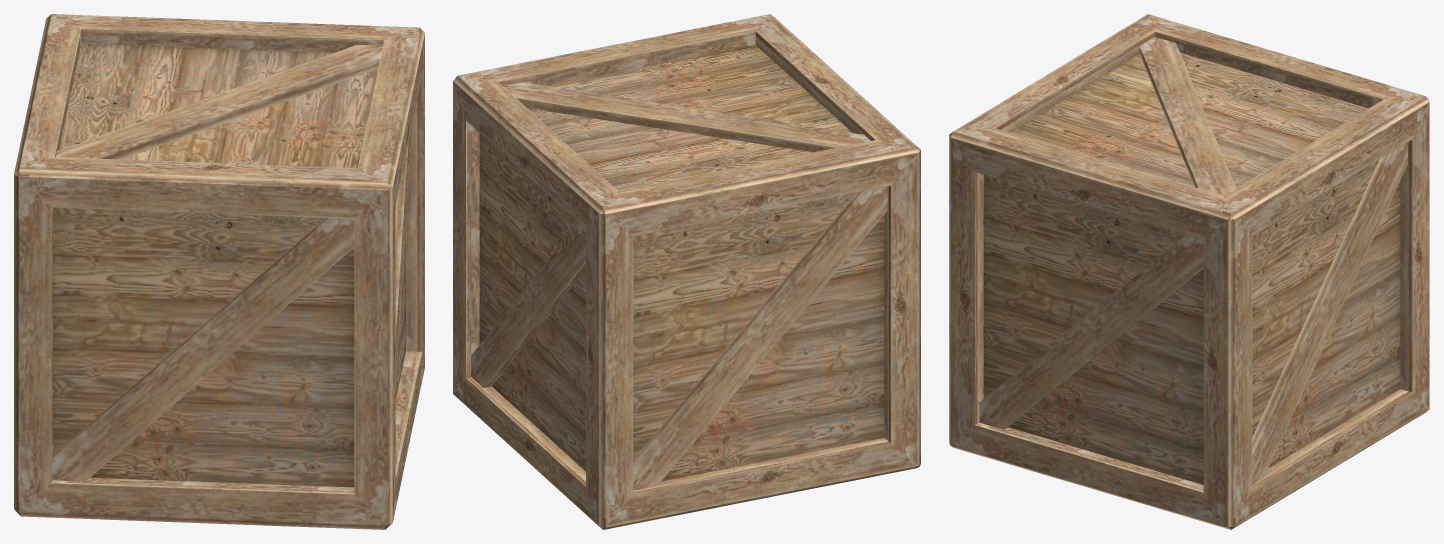
The model's file is pallettebox029_woodbox_dm_0_lev1.glb.
3 renders of one model, left to right at view 1: azimuth 30°, elevation 25°; view 2: azimuth 150°, elevation 25°; view 3: azimuth 270°, elevation 25°, orthographic. The views are drawn at different scales.
Parts seen in each view (by area): view 1: pallettebox029_woodbox_dm_0_lev1; view 2: pallettebox029_woodbox_dm_0_lev1; view 3: pallettebox029_woodbox_dm_0_lev1.
Part boxes in pixels (left/top/right/bottom): pallettebox029_woodbox_dm_0_lev1: left=14, top=14, right=424, bottom=529; pallettebox029_woodbox_dm_0_lev1: left=453, top=14, right=920, bottom=529; pallettebox029_woodbox_dm_0_lev1: left=949, top=14, right=1429, bottom=529.
Bounding box in the file's own units: 1.11 × 0.803 × 1.11.
1 material, 1 textured.
